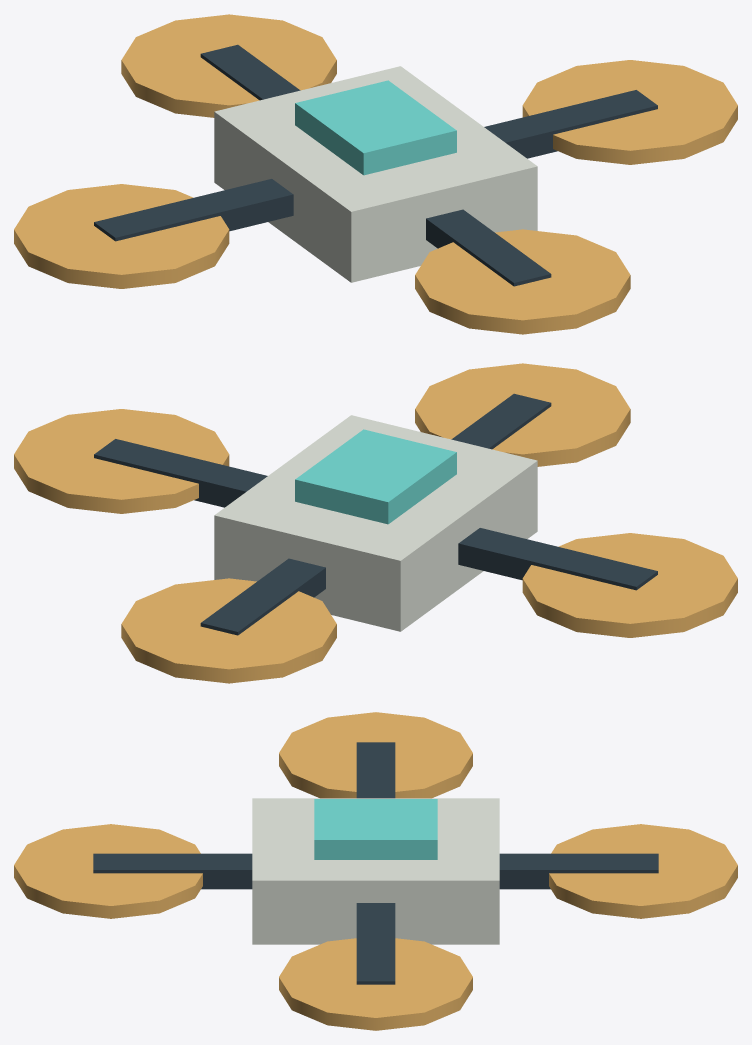
File: aerial_marker.glb
The picture shows the model from 3 angles, top to bottom: view 1: azimuth 30°, elevation 25°; view 2: azimuth 150°, elevation 25°; view 3: azimuth 270°, elevation 25°; orthographic projection. The views are drawn at different scales.
Visible parts, largest first — view 1: Body, Rotor_6, Rotor_5, Rotor_4, Rotor_7, ArmX, Top, ArmZ; view 2: Body, Rotor_7, Rotor_5, Rotor_4, Rotor_6, ArmX, Top, ArmZ; view 3: Body, Rotor_4, Rotor_6, Rotor_7, Rotor_5, ArmZ, Top, ArmX.
Boxes of the visible parts, x1=… form: Body: x1=214, y1=66, x2=537, y2=282; Rotor_6: x1=415, y1=229, x2=630, y2=334; Rotor_5: x1=14, y1=184, x2=229, y2=288; Rotor_4: x1=522, y1=60, x2=737, y2=164; Rotor_7: x1=121, y1=14, x2=336, y2=117; ArmX: x1=94, y1=90, x2=657, y2=241; Top: x1=295, y1=80, x2=456, y2=175; ArmZ: x1=200, y1=44, x2=551, y2=286; Body: x1=214, y1=415, x2=537, y2=631; Rotor_7: x1=121, y1=578, x2=336, y2=683; Rotor_5: x1=522, y1=533, x2=737, y2=637; Rotor_4: x1=14, y1=409, x2=229, y2=513; Rotor_6: x1=415, y1=363, x2=630, y2=466; ArmX: x1=94, y1=439, x2=657, y2=590; Top: x1=295, y1=429, x2=456, y2=524; ArmZ: x1=200, y1=393, x2=551, y2=635; Body: x1=252, y1=798, x2=499, y2=944; Rotor_4: x1=279, y1=938, x2=472, y2=1030; Rotor_6: x1=14, y1=824, x2=202, y2=918; Rotor_7: x1=549, y1=824, x2=737, y2=918; Rotor_5: x1=279, y1=712, x2=472, y2=798; ArmZ: x1=93, y1=853, x2=658, y2=889; Top: x1=314, y1=799, x2=437, y2=859; ArmX: x1=356, y1=742, x2=395, y2=984.
Bounding box in the file's own units: 4.1 × 0.525 × 4.1.
